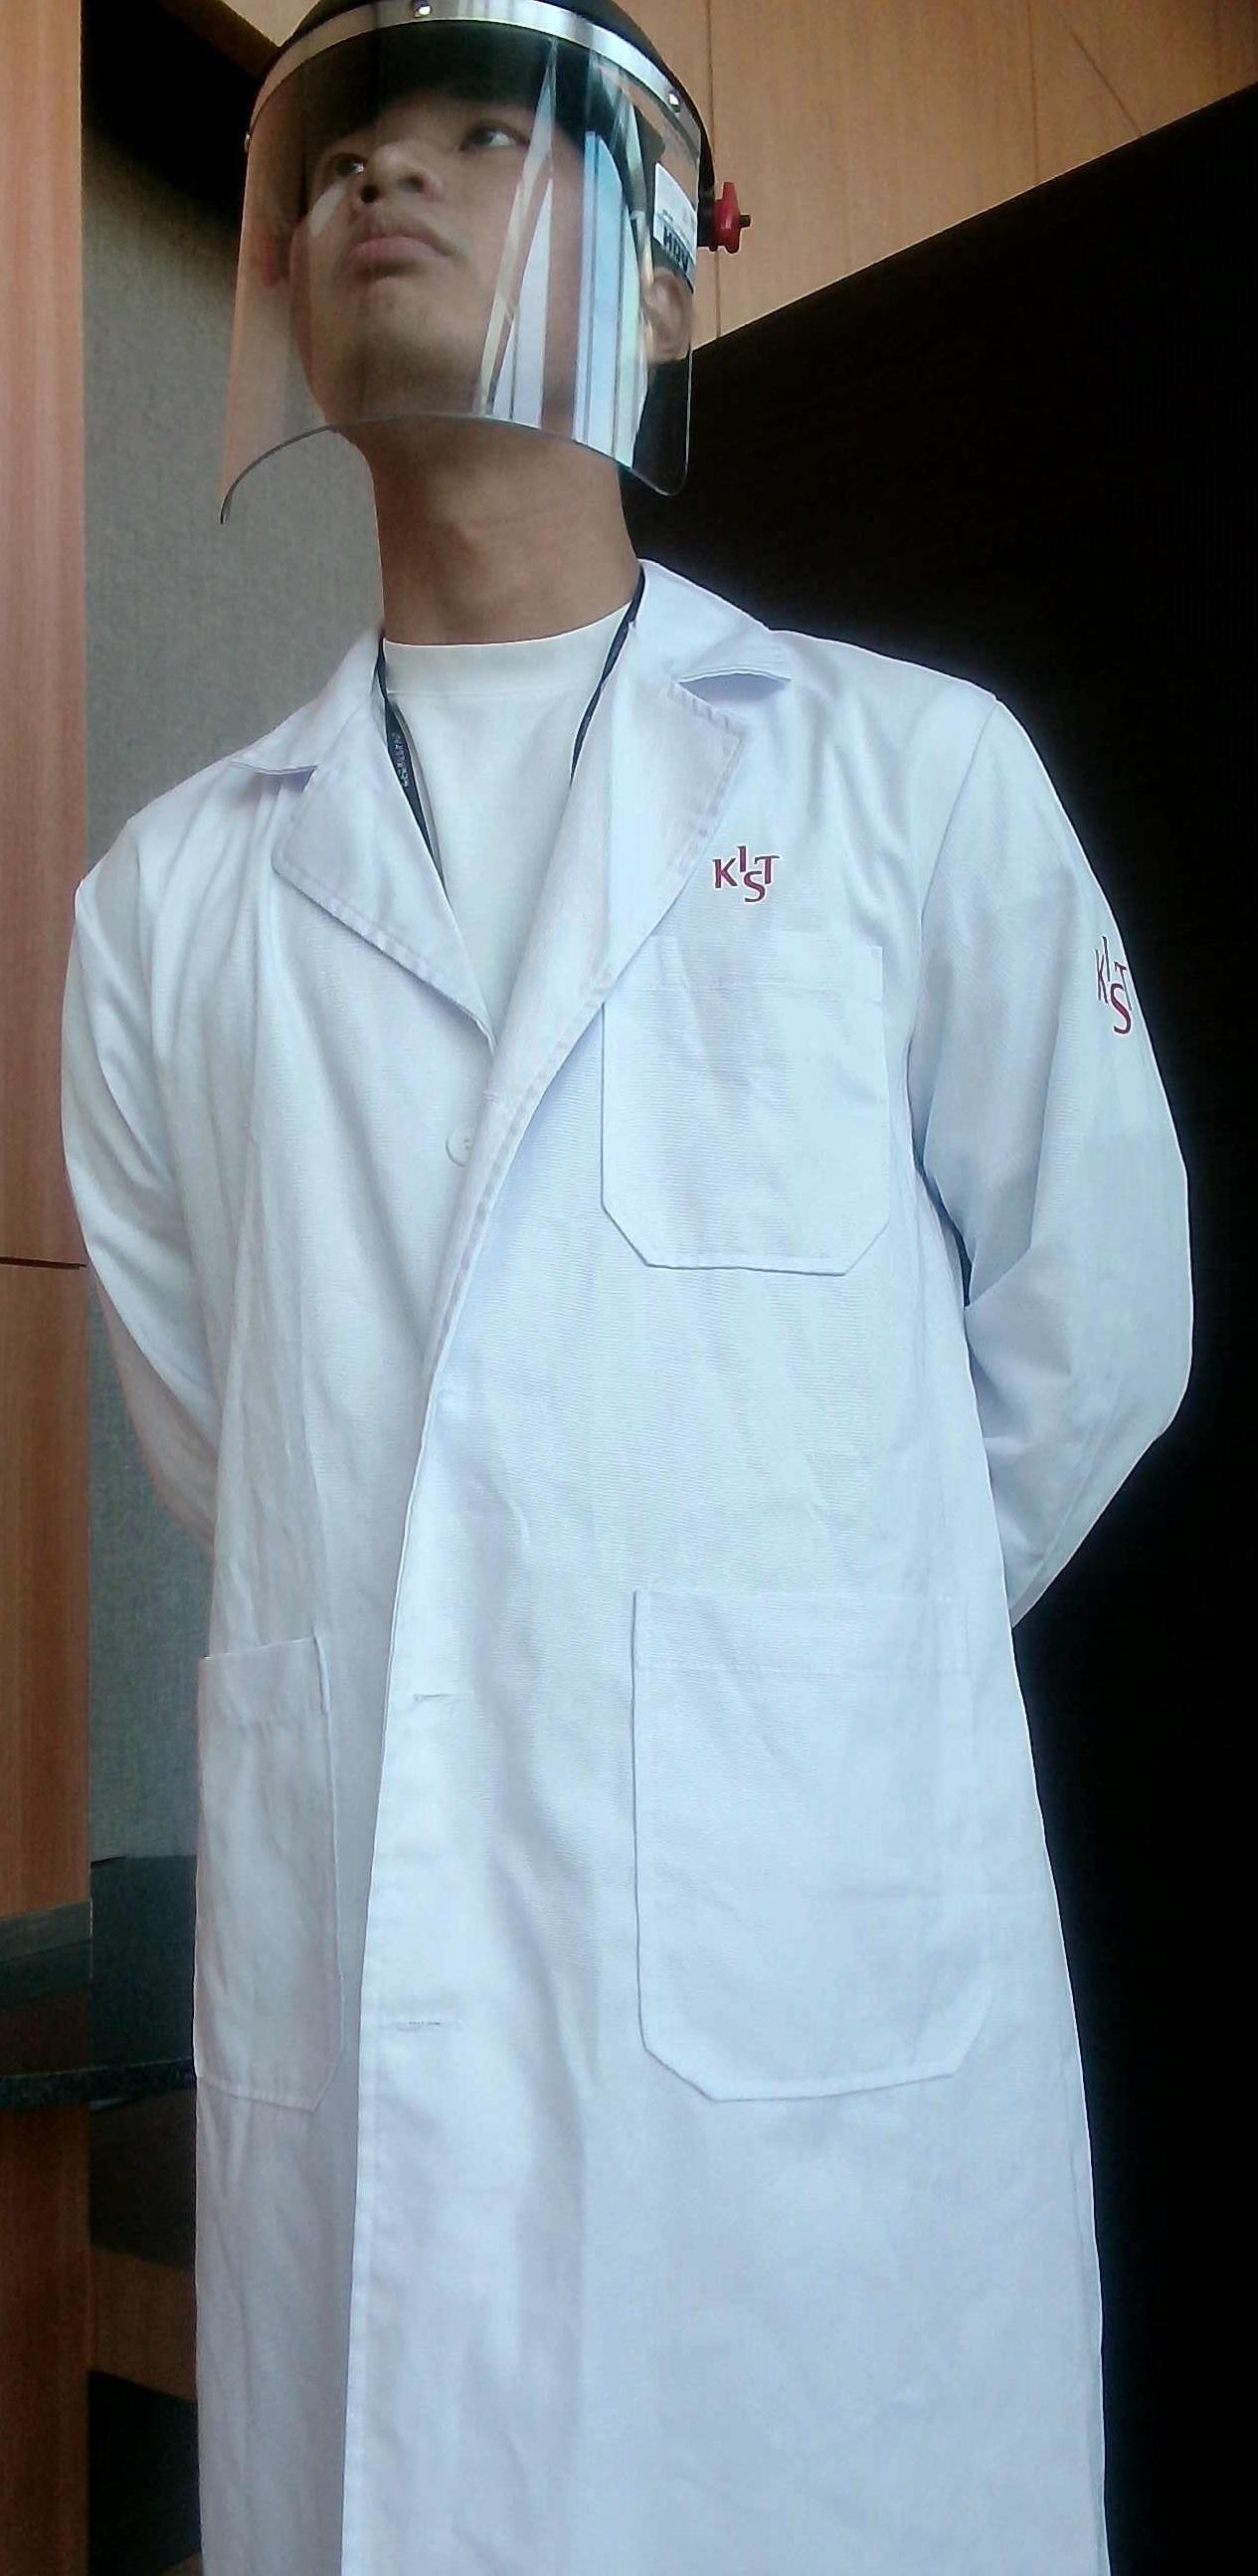lab_coat: (80, 728, 1181, 2576)
